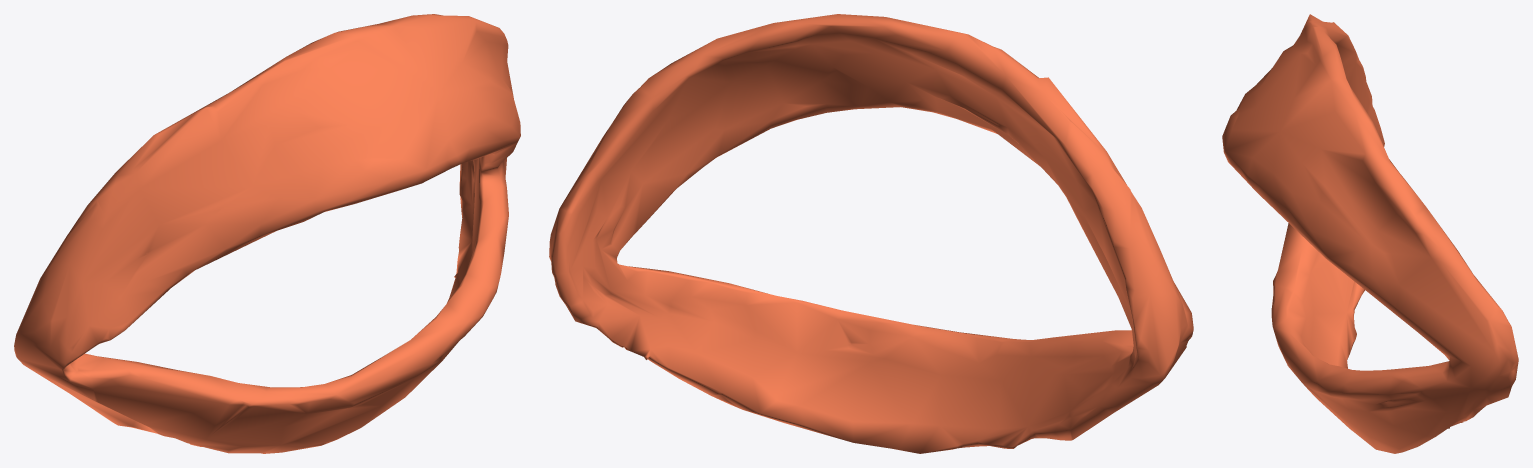
File: Orbicularis_oculi_palpebral_part_left.glb
3 renders of one model, left to right at view 1: azimuth 30°, elevation 25°; view 2: azimuth 150°, elevation 25°; view 3: azimuth 270°, elevation 25°, orthographic. The views are drawn at different scales.
Visible parts, largest first — view 1: Palpebral_part_of_orbicularis_oculi.l_Generated_Mesh_From_X3; view 2: Palpebral_part_of_orbicularis_oculi.l_Generated_Mesh_From_X3; view 3: Palpebral_part_of_orbicularis_oculi.l_Generated_Mesh_From_X3.
Part boxes in pixels (box(x1,y1,x2,y2)): Palpebral_part_of_orbicularis_oculi.l_Generated_Mesh_From_X3: box(14, 14, 520, 453); Palpebral_part_of_orbicularis_oculi.l_Generated_Mesh_From_X3: box(549, 14, 1193, 453); Palpebral_part_of_orbicularis_oculi.l_Generated_Mesh_From_X3: box(1222, 14, 1518, 453).
Size of the model in its own units: 0.0337 by 0.0242 by 0.0174.
